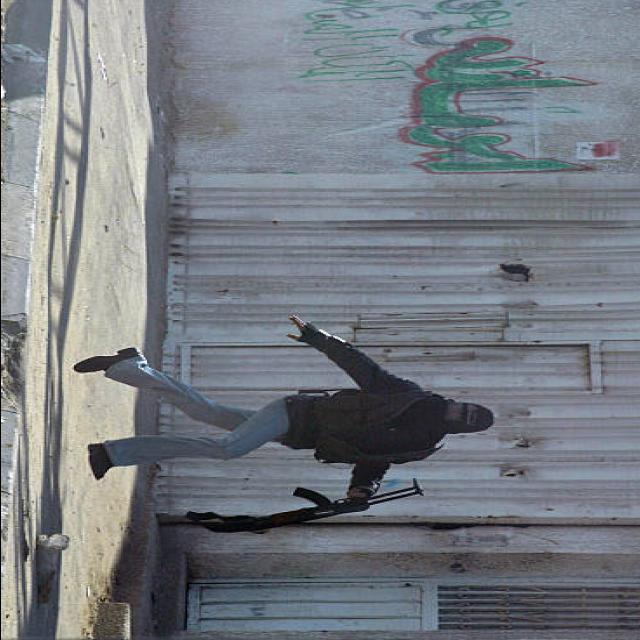terrorist: (75, 315, 492, 532)
